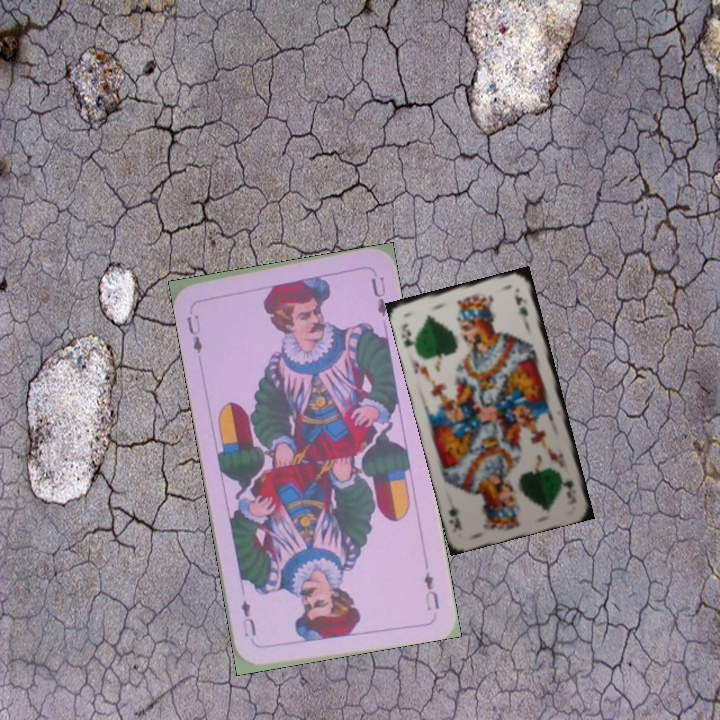EU: (182, 310, 205, 356), (420, 568, 442, 614)
GK: (397, 320, 420, 353), (560, 476, 576, 502)
